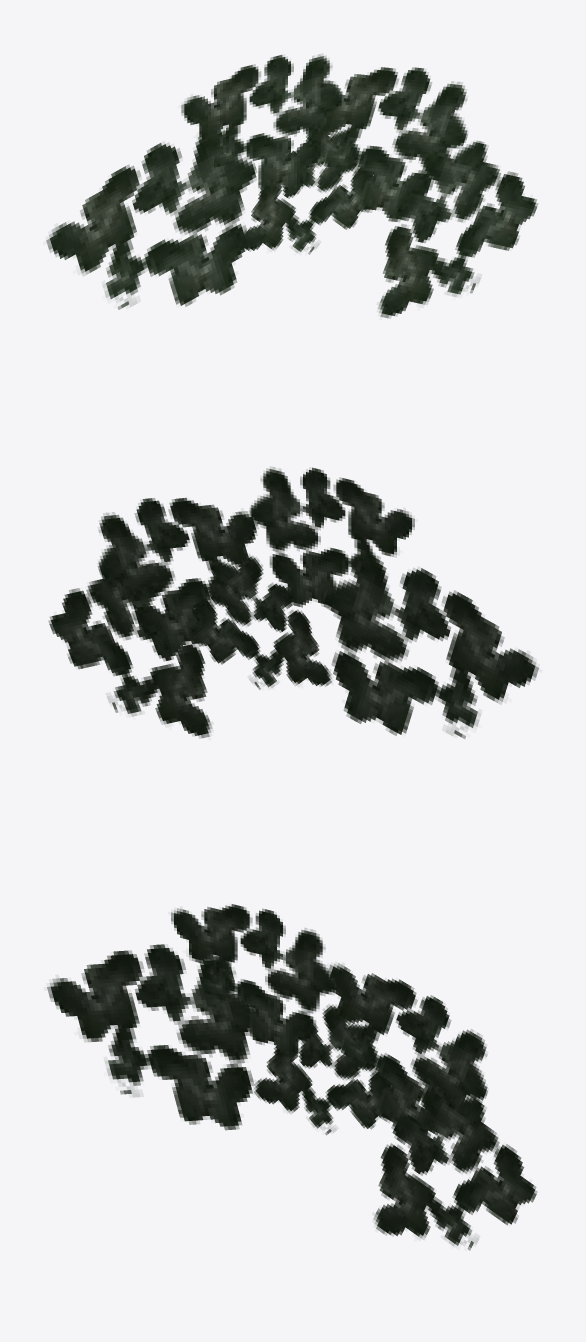
3 views of the same model, one above another, from view 1: azimuth 30°, elevation 25°; view 2: azimuth 150°, elevation 25°; view 3: azimuth 330°, elevation 25° (orthographic). The views are drawn at different scales.
Visible parts, largest first — view 1: model_Object26; view 2: model_Object26; view 3: model_Object26.
Part boxes in pixels (x1=…): model_Object26: x1=46, y1=54, x2=537, y2=318; model_Object26: x1=48, y1=467, x2=538, y2=738; model_Object26: x1=47, y1=904, x2=537, y2=1250.
Bounding box in the file's own units: 2.22 × 1.46 × 0.0832.
1 material, 1 textured.
